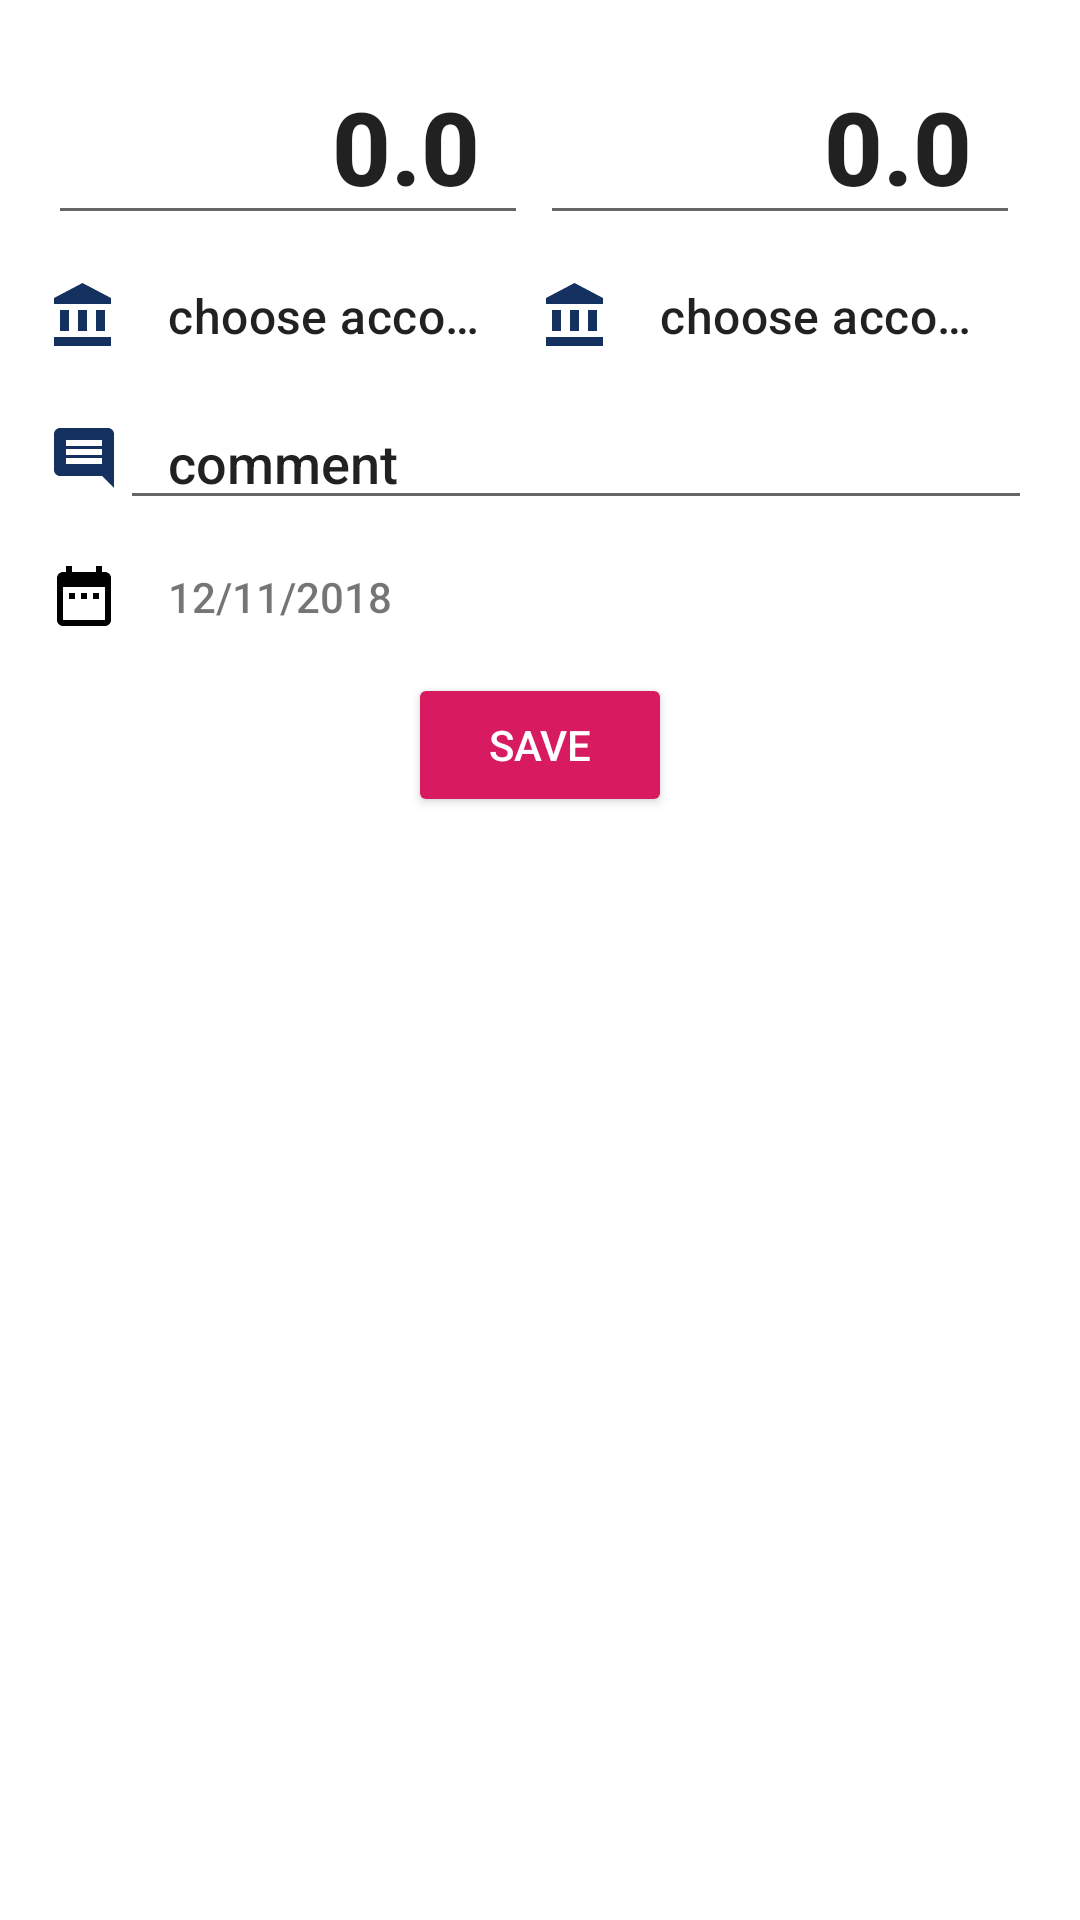

Icon bounding boxes for this 1080 x 1920 phone screenshot, format {"left": x1, "top": y1, "right": x2, "bottom": y2}:
calendar: {"left": 57, "top": 566, "right": 111, "bottom": 626}
